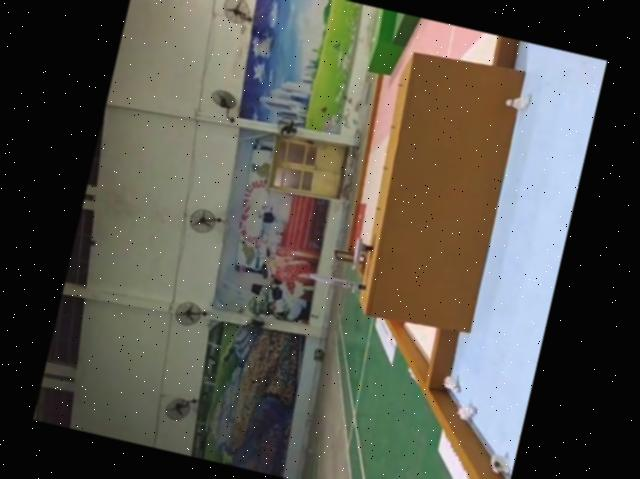Hand: (349, 235, 375, 268)
Sph: (303, 267, 368, 294)
